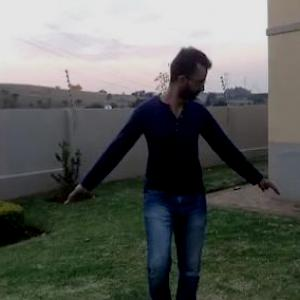land: (63, 42, 278, 299)
